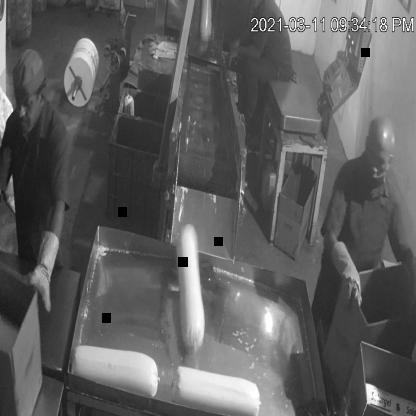glove: (30, 212, 66, 316), (334, 225, 366, 310), (407, 248, 416, 322)
no_glove: (223, 35, 261, 70)
